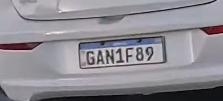Placa_mercosul_carro: (78, 36, 166, 69)
